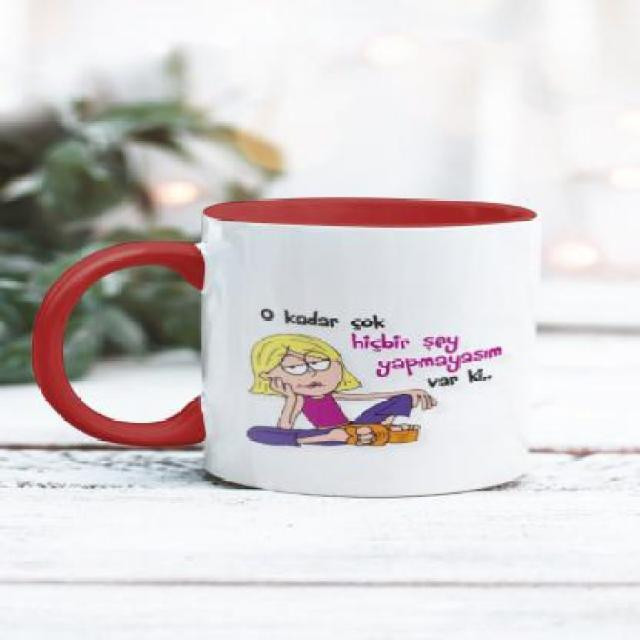taza: (32, 194, 542, 496)
